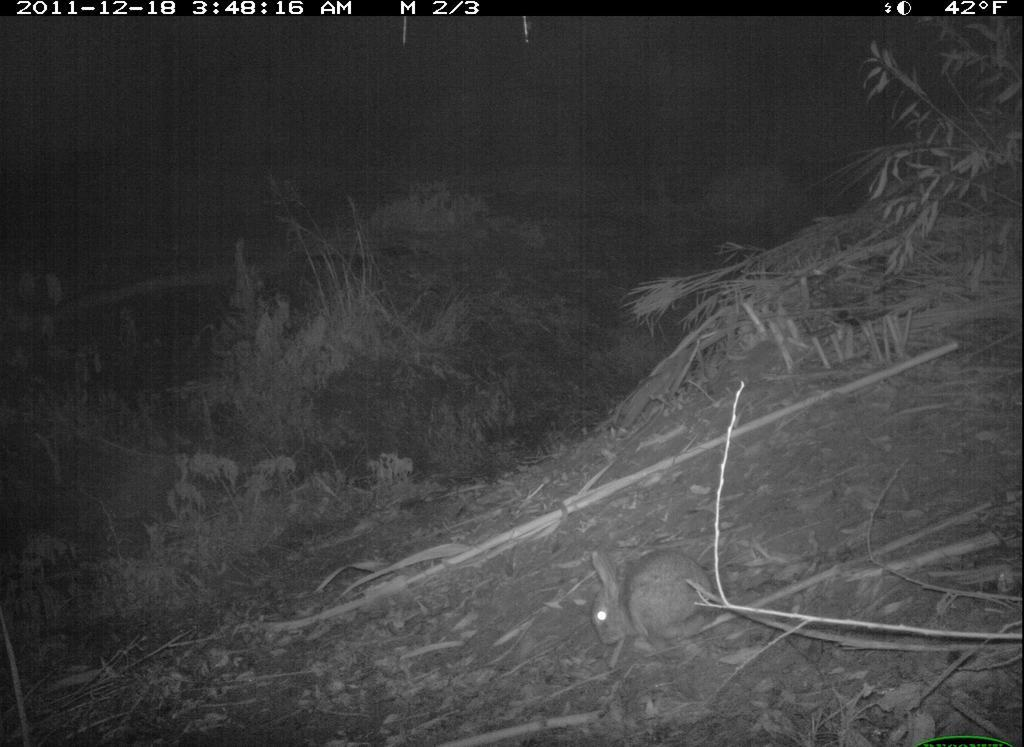rabbit: (568, 528, 760, 671)
